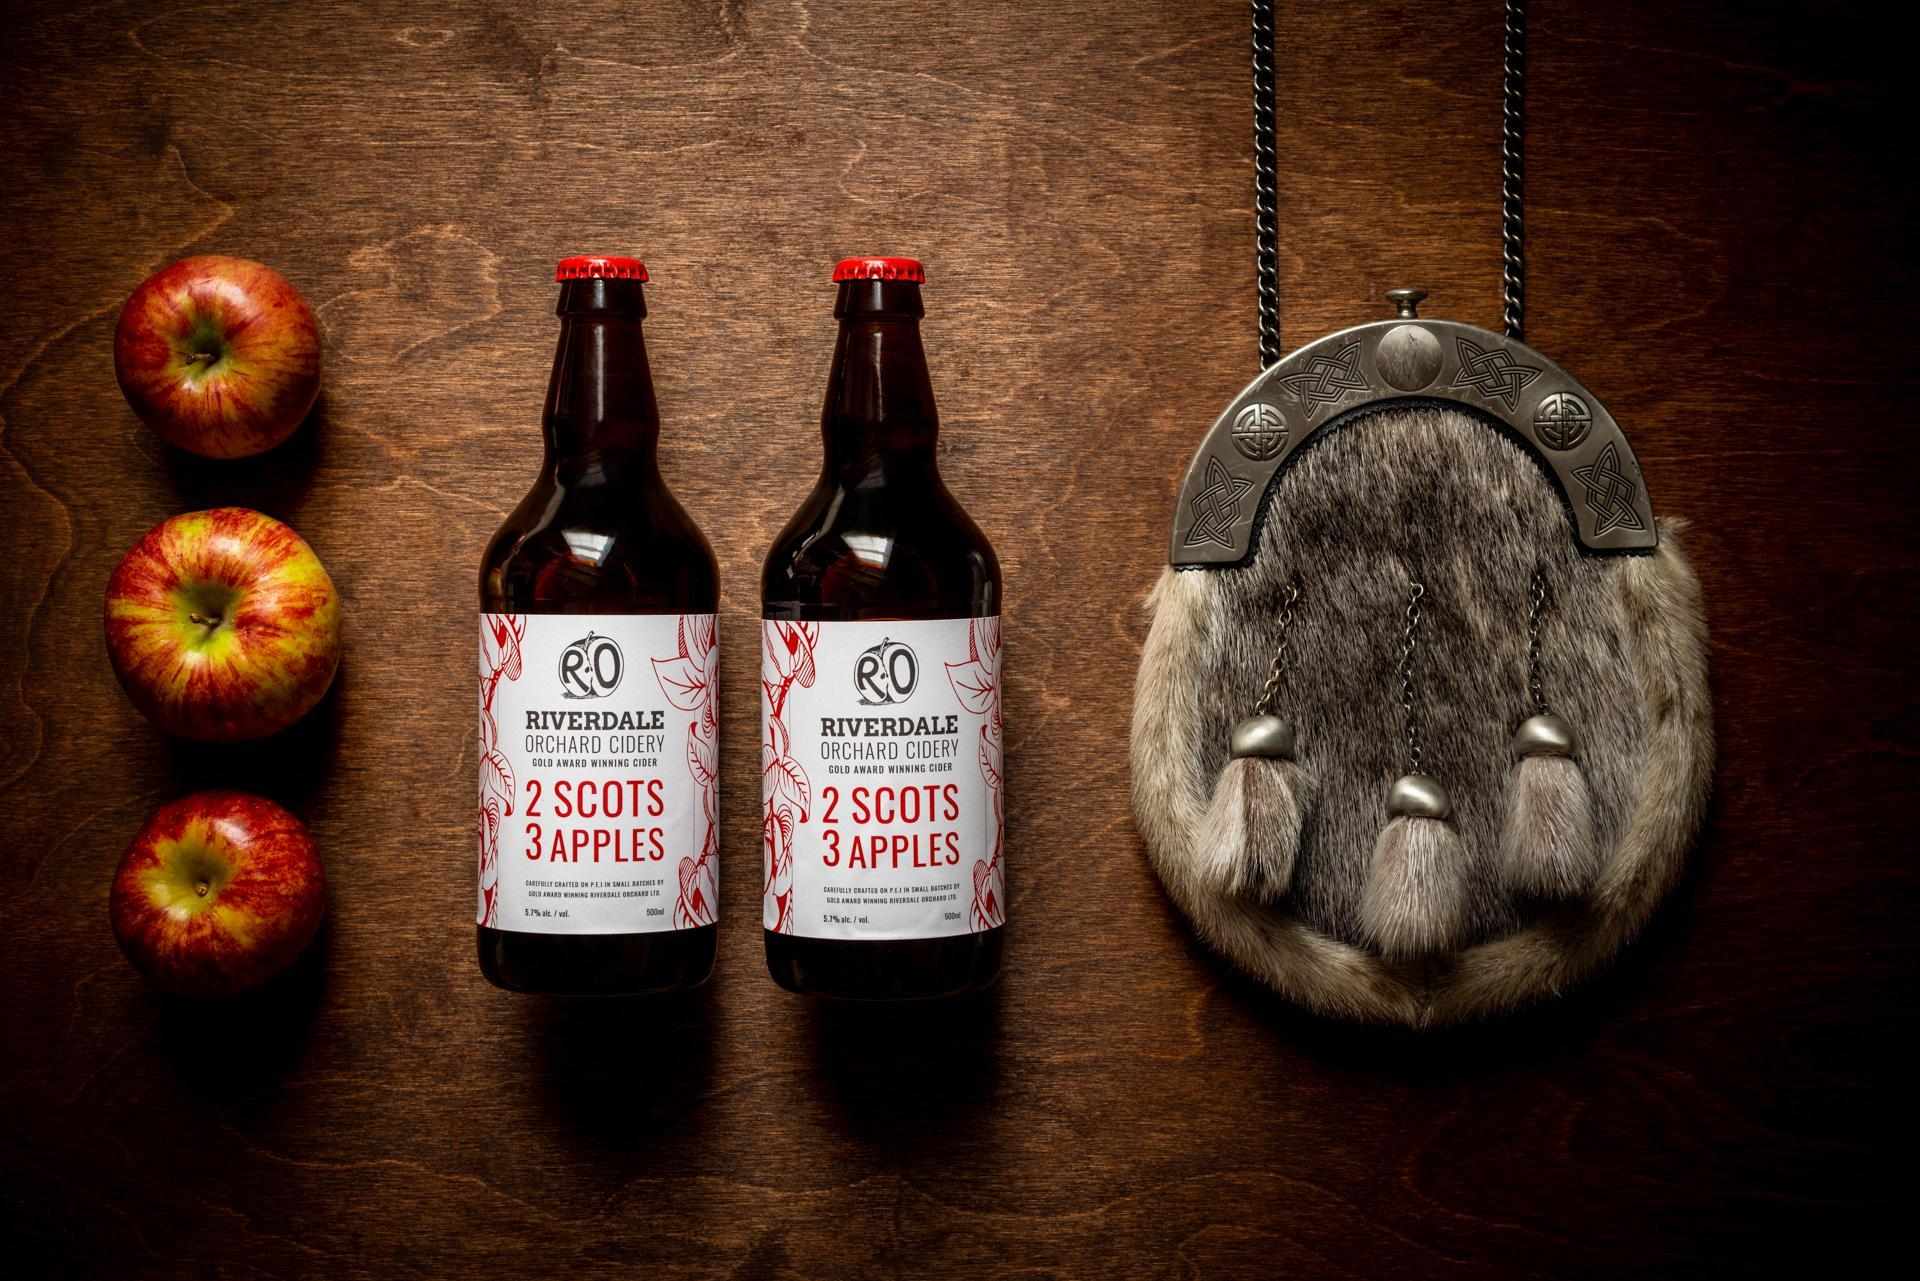apple: (97, 505, 343, 745), (104, 250, 326, 472), (107, 781, 326, 999)
